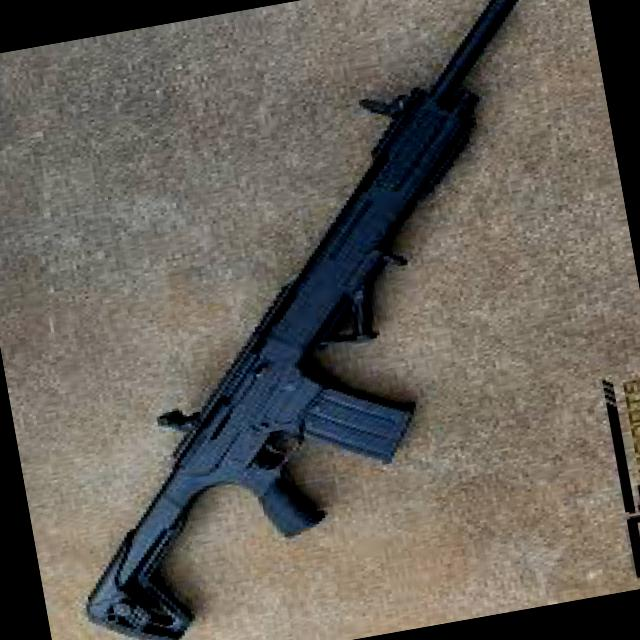long weapon: (51, 0, 574, 640)
